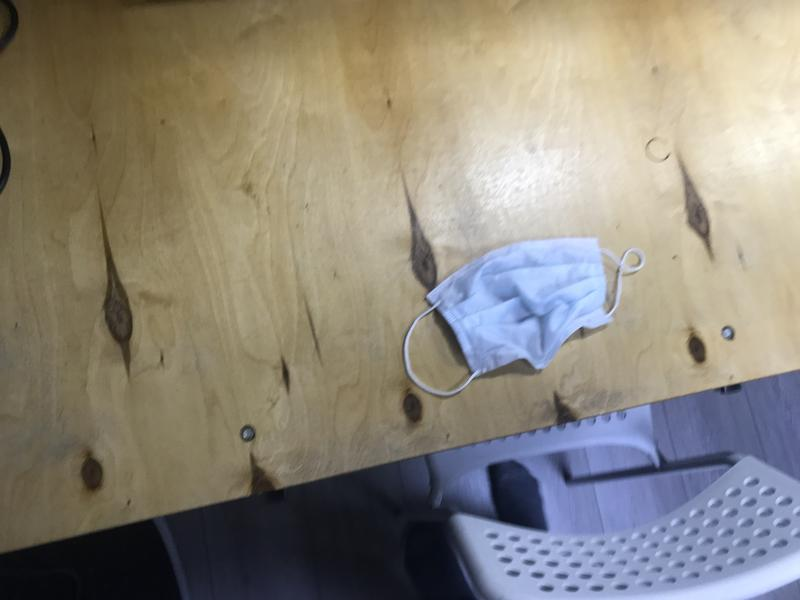medical_mask: (404, 239, 646, 395)
